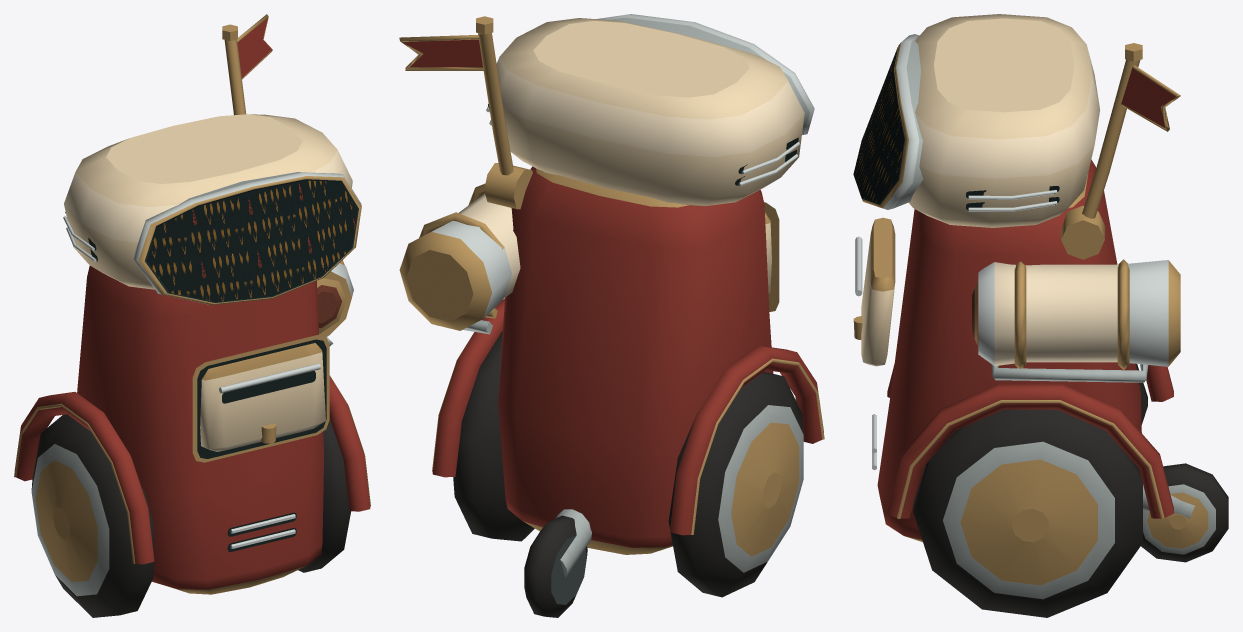
File: Runner-L1.fbx
3 renders of one model, left to right at view 1: azimuth 30°, elevation 25°; view 2: azimuth 150°, elevation 25°; view 3: azimuth 270°, elevation 25°, orthographic. The views are drawn at different scales.
Parts seen in each view (by area): view 1: Runner_Body, Runner_Head, Runner_Head_Face, Runner_WheelL, Runner_Hatch, Runner_WheelR, Runner_Flag; view 2: Runner_Body, Runner_Head, Runner_WheelL, Runner_WheelR, Runner_Flag, Runner_Caster; view 3: Runner_Body, Runner_Head, Runner_WheelR, Runner_Flag, Runner_Caster, Runner_Hatch, Runner_Head_Face.
Part boxes in pixels (bbox=[...]): Runner_Body: bbox=[14, 260, 370, 594]; Runner_Head: bbox=[63, 114, 361, 304]; Runner_Head_Face: bbox=[147, 180, 357, 301]; Runner_WheelL: bbox=[31, 414, 153, 617]; Runner_Hatch: bbox=[200, 343, 325, 451]; Runner_WheelR: bbox=[298, 418, 350, 572]; Runner_Flag: bbox=[222, 14, 272, 115]; Runner_Body: bbox=[399, 166, 824, 577]; Runner_Head: bbox=[486, 14, 814, 205]; Runner_WheelL: bbox=[668, 372, 803, 597]; Runner_WheelR: bbox=[453, 331, 534, 541]; Runner_Flag: bbox=[399, 16, 532, 209]; Runner_Caster: bbox=[524, 515, 587, 617]; Runner_Body: bbox=[872, 159, 1194, 542]; Runner_Head: bbox=[853, 14, 1099, 227]; Runner_WheelR: bbox=[913, 409, 1142, 617]; Runner_Flag: bbox=[1061, 43, 1180, 259]; Runner_Caster: bbox=[1141, 463, 1228, 562]; Runner_Hatch: bbox=[853, 217, 895, 366]; Runner_Head_Face: bbox=[854, 47, 904, 203].
Size of the model in its own units: 0.4648 by 0.7893 by 0.4802.
2 materials, 2 textured.
